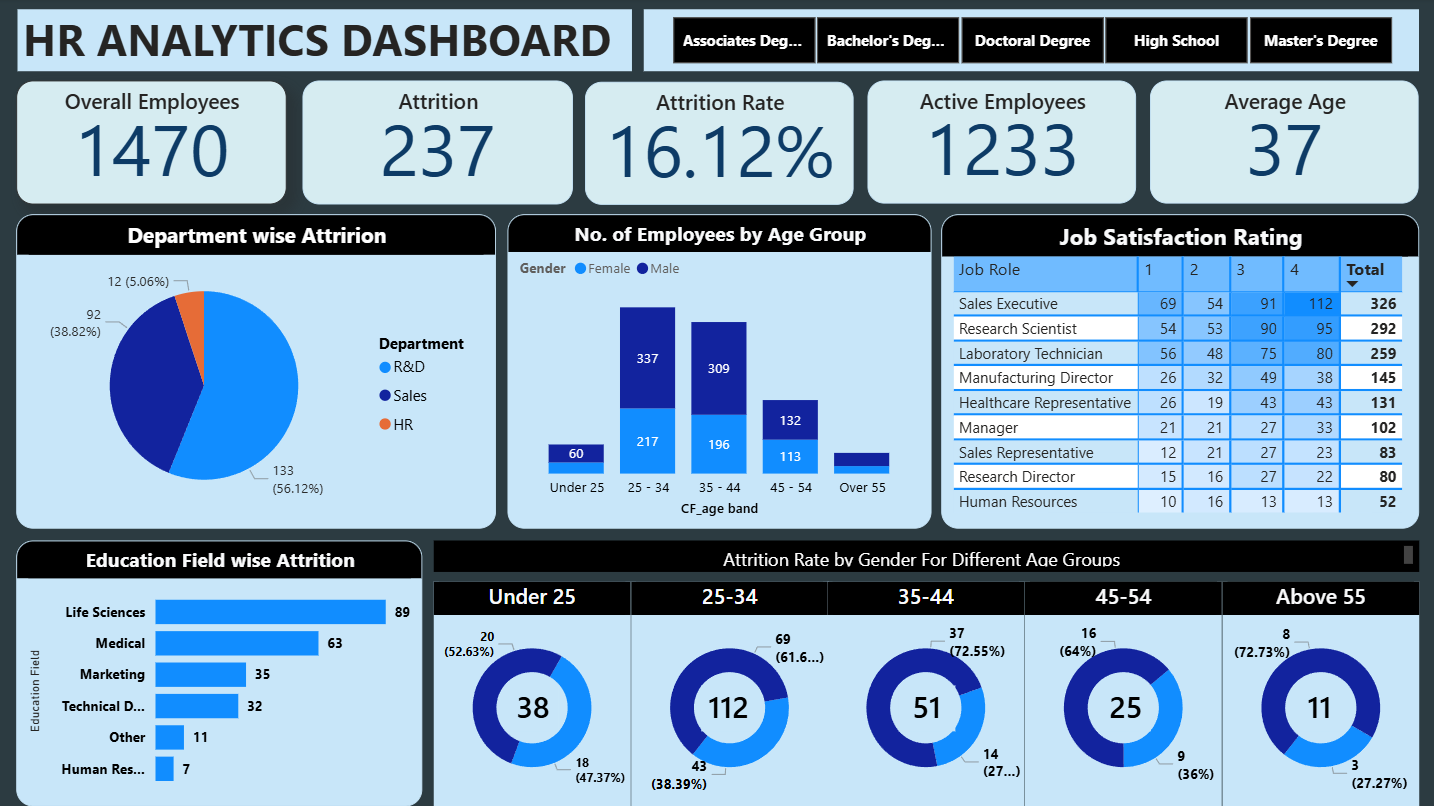

The dashboard page shown, as its layout file describes it:
{"tool":"powerbi","page":{"name":"Page 1","canvas":[1280,720],"ordinal":0},"visuals":[{"type":"card","title":"Overall Employees","fields":{"Values":["Sum(HR Data xlsx - HR data.Employee Count)"]},"box":[14.7,73.6,240.5,110.4],"z":0},{"type":"card","title":"Attrition","fields":{"Values":["Sum(HR Data xlsx - HR data.Attrition count)"]},"box":[269.9,73.6,240.5,110.4],"z":1000},{"type":"card","title":"Attrition Rate","fields":{"Values":["HR Data xlsx - HR data.Attrition rate"]},"box":[521.5,74.8,239.3,109.2],"z":2000},{"type":"card","title":"Active Employees","fields":{"Values":["HR Data xlsx - HR data.Active employees"]},"box":[773,73.6,239.3,109.2],"z":3000},{"type":"card","title":"Average Age","fields":{"Values":["Avg(HR Data xlsx - HR data.Age)"]},"box":[1024.5,73.6,239.3,109.2],"z":4000},{"type":"pieChart","title":"Department wise Attririon","fields":{"Category":["HR Data xlsx - HR data.Department"],"Y":["Sum(HR Data xlsx - HR data.Attrition count)"]},"box":[14.7,192.6,427,279.8],"z":5000},{"type":"columnChart","title":"No. of Employees by Age Group","fields":{"Category":["HR Data xlsx - HR data.CF_age band"],"Y":["Sum(HR Data xlsx - HR data.Employee Count)"],"Series":["HR Data xlsx - HR data.Gender"]},"box":[451.5,192.6,377.9,279.8],"z":6000},{"type":"pivotTable","title":"Job Satisfaction Rating","fields":{"Rows":["HR Data xlsx - HR data.Job Role"],"Columns":["HR Data xlsx - HR data.Job Satisfaction"],"Values":["Sum(HR Data xlsx - HR data.Employee Count)"]},"box":[838,192.6,425.8,279.8],"z":7000},{"type":"barChart","title":"Education Field wise Attrition","fields":{"Category":["HR Data xlsx - HR data.Education Field"],"Y":["Sum(HR Data xlsx - HR data.Attrition count)"]},"box":[14.7,483.4,362,236.8],"z":8000},{"type":"donutChart","title":"Under 25","fields":{"Category":["HR Data xlsx - HR data.Gender"],"Y":["Sum(HR Data xlsx - HR data.Attrition count)"],"Series":["HR Data xlsx - HR data.CF_age band"]},"box":[386.5,520.2,175.5,200],"z":9000},{"type":"textbox","box":[386.5,483.4,877.3,28.2],"z":10000},{"type":"donutChart","title":"25-34","fields":{"Category":["HR Data xlsx - HR data.Gender"],"Y":["Sum(HR Data xlsx - HR data.Attrition count)"],"Series":["HR Data xlsx - HR data.CF_age band"]},"box":[562,520.2,175.5,200],"z":11000},{"type":"donutChart","title":"35-44","fields":{"Category":["HR Data xlsx - HR data.Gender"],"Y":["Sum(HR Data xlsx - HR data.Attrition count)"],"Series":["HR Data xlsx - HR data.CF_age band"]},"box":[737.4,520.2,175.5,200],"z":12000},{"type":"donutChart","title":"45-54","fields":{"Category":["HR Data xlsx - HR data.Gender"],"Y":["Sum(HR Data xlsx - HR data.Attrition count)"],"Series":["HR Data xlsx - HR data.CF_age band"]},"box":[912.9,520.2,175.5,200],"z":13000},{"type":"donutChart","title":"Above 55","fields":{"Category":["HR Data xlsx - HR data.Gender"],"Y":["Sum(HR Data xlsx - HR data.Attrition count)"],"Series":["HR Data xlsx - HR data.CF_age band"]},"box":[1088.3,520.2,175.5,200],"z":14000},{"type":"card","fields":{"Values":["Sum(HR Data xlsx - HR data.Attrition count)"]},"box":[451.5,612.3,45.4,40.5],"z":15000},{"type":"card","fields":{"Values":["Sum(HR Data xlsx - HR data.Attrition count)"]},"box":[624.5,612.3,49.1,40.5],"z":16000},{"type":"card","fields":{"Values":["Sum(HR Data xlsx - HR data.Attrition count)"]},"box":[800,612.3,50.3,40.5],"z":17000},{"type":"card","fields":{"Values":["Sum(HR Data xlsx - HR data.Attrition count)"]},"box":[980.4,612.3,44.2,40.5],"z":18000},{"type":"card","fields":{"Values":["Sum(HR Data xlsx - HR data.Attrition count)"]},"box":[1154.6,612.3,41.7,40.5],"z":19000},{"type":"textbox","title":"HR ANALYTICS DASHBOARD","box":[15.1,9.6,547.5,54.9],"z":20000},{"type":"slicer","fields":{"Values":["HR Data xlsx - HR data.Education"]},"box":[573.6,9.6,690.2,54.9],"z":21000}]}

Visuals, with their boxes in screenshot pixels (x1, y1, x2, y2), scaled from the page's 1280x720 canvas onto the 1434x806 screenshot:
"Overall Employees" card: {"left": 16, "top": 82, "right": 286, "bottom": 206}
"Attrition" card: {"left": 302, "top": 82, "right": 572, "bottom": 206}
"Attrition Rate" card: {"left": 584, "top": 84, "right": 852, "bottom": 206}
"Active Employees" card: {"left": 866, "top": 82, "right": 1134, "bottom": 205}
"Average Age" card: {"left": 1148, "top": 82, "right": 1416, "bottom": 205}
"Department wise Attririon" pieChart: {"left": 16, "top": 216, "right": 495, "bottom": 529}
"No. of Employees by Age Group" columnChart: {"left": 506, "top": 216, "right": 929, "bottom": 529}
"Job Satisfaction Rating" pivotTable: {"left": 939, "top": 216, "right": 1416, "bottom": 529}
"Education Field wise Attrition" barChart: {"left": 16, "top": 541, "right": 422, "bottom": 805}
"Under 25" donutChart: {"left": 433, "top": 582, "right": 630, "bottom": 805}
textbox: {"left": 433, "top": 541, "right": 1416, "bottom": 573}
"25-34" donutChart: {"left": 630, "top": 582, "right": 826, "bottom": 805}
"35-44" donutChart: {"left": 826, "top": 582, "right": 1023, "bottom": 805}
"45-54" donutChart: {"left": 1023, "top": 582, "right": 1219, "bottom": 805}
"Above 55" donutChart: {"left": 1219, "top": 582, "right": 1416, "bottom": 805}
card - Sum(HR Data xlsx - HR data.Attrition count): {"left": 506, "top": 685, "right": 557, "bottom": 731}
card - Sum(HR Data xlsx - HR data.Attrition count): {"left": 700, "top": 685, "right": 755, "bottom": 731}
card - Sum(HR Data xlsx - HR data.Attrition count): {"left": 896, "top": 685, "right": 953, "bottom": 731}
card - Sum(HR Data xlsx - HR data.Attrition count): {"left": 1098, "top": 685, "right": 1148, "bottom": 731}
card - Sum(HR Data xlsx - HR data.Attrition count): {"left": 1294, "top": 685, "right": 1340, "bottom": 731}
"HR ANALYTICS DASHBOARD" textbox: {"left": 17, "top": 11, "right": 630, "bottom": 72}
slicer - HR Data xlsx - HR data.Education: {"left": 643, "top": 11, "right": 1416, "bottom": 72}
